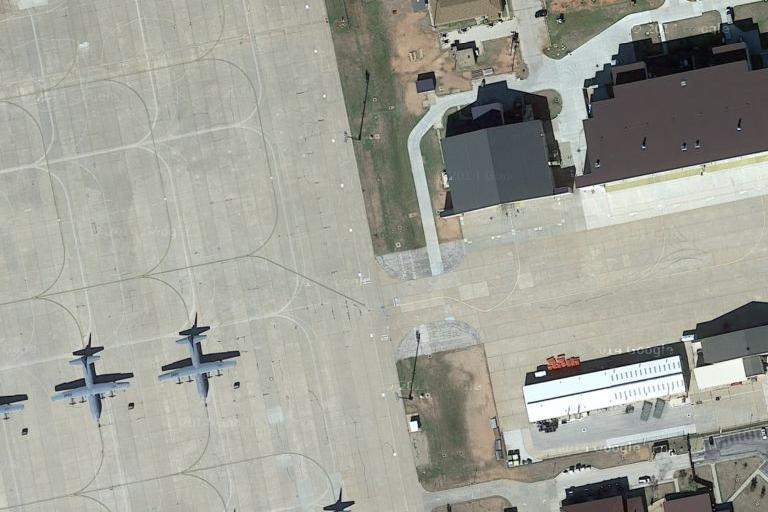C-130: (47, 351, 131, 424), (154, 333, 240, 400)
